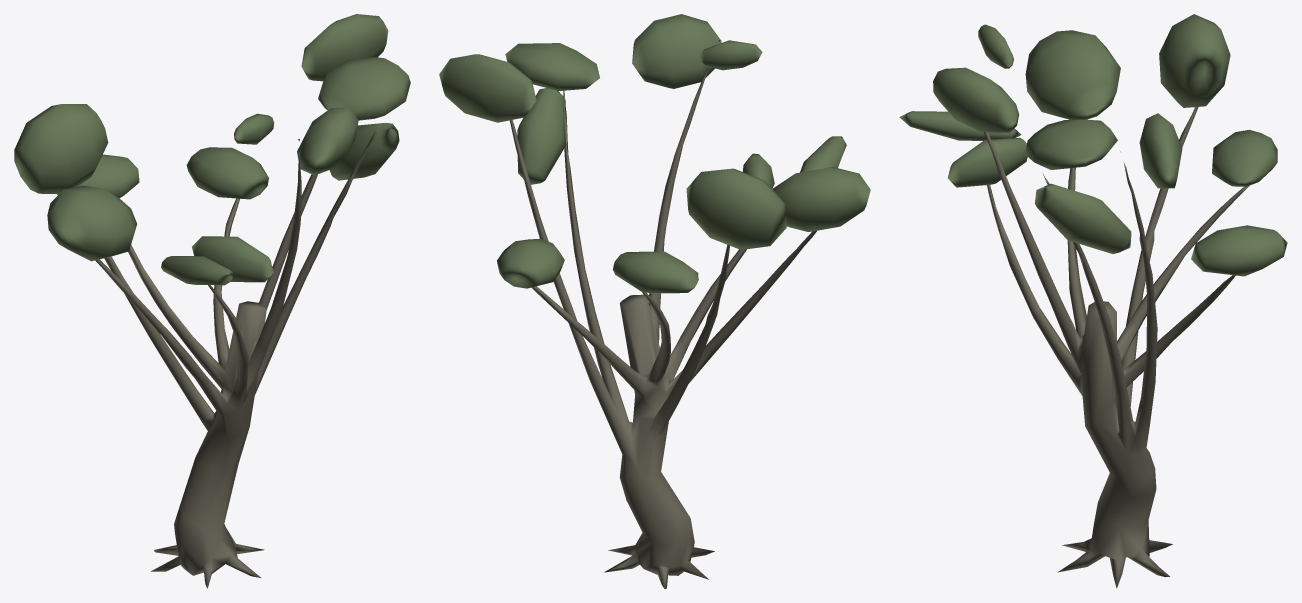
File: Oleastre_1_Niveau2.fbx
The picture shows the model from 3 angles, left to right: view 1: azimuth 30°, elevation 25°; view 2: azimuth 150°, elevation 25°; view 3: azimuth 270°, elevation 25°; orthographic projection. The views are drawn at different scales.
Parts seen in each view (by area): view 1: Oleastre_1_Niveau2_Jeu; view 2: Oleastre_1_Niveau2_Jeu; view 3: Oleastre_1_Niveau2_Jeu.
Part boxes in pixels (x1,y1,x2,y2): Oleastre_1_Niveau2_Jeu: (14,14,410,588); Oleastre_1_Niveau2_Jeu: (439,14,870,588); Oleastre_1_Niveau2_Jeu: (899,14,1287,588).
Size of the model in its own units: 310 by 383 by 256.
